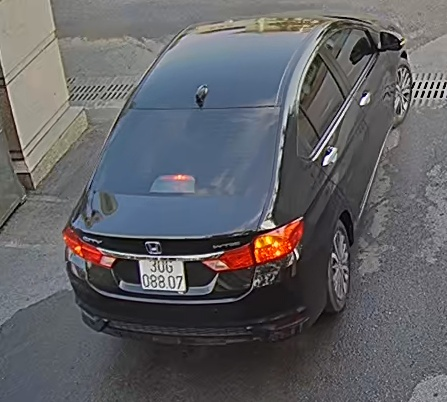vehicle plate: (131, 252, 190, 292)
